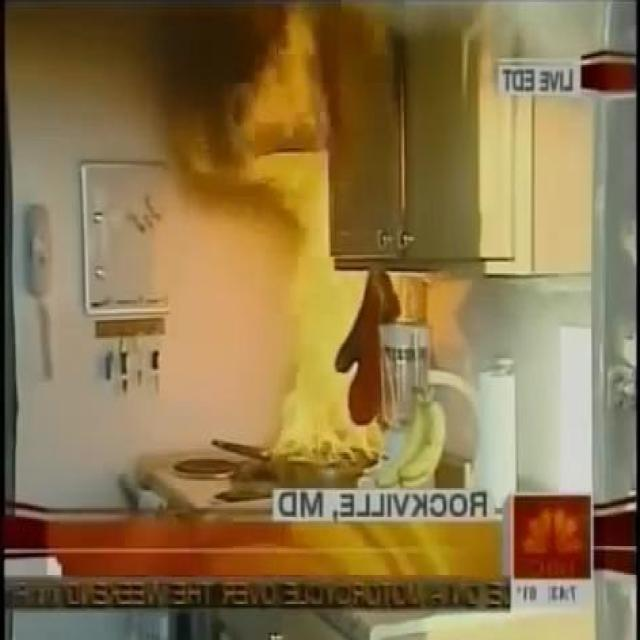fire: (332, 0, 637, 119)
smoke: (218, 16, 388, 465)
